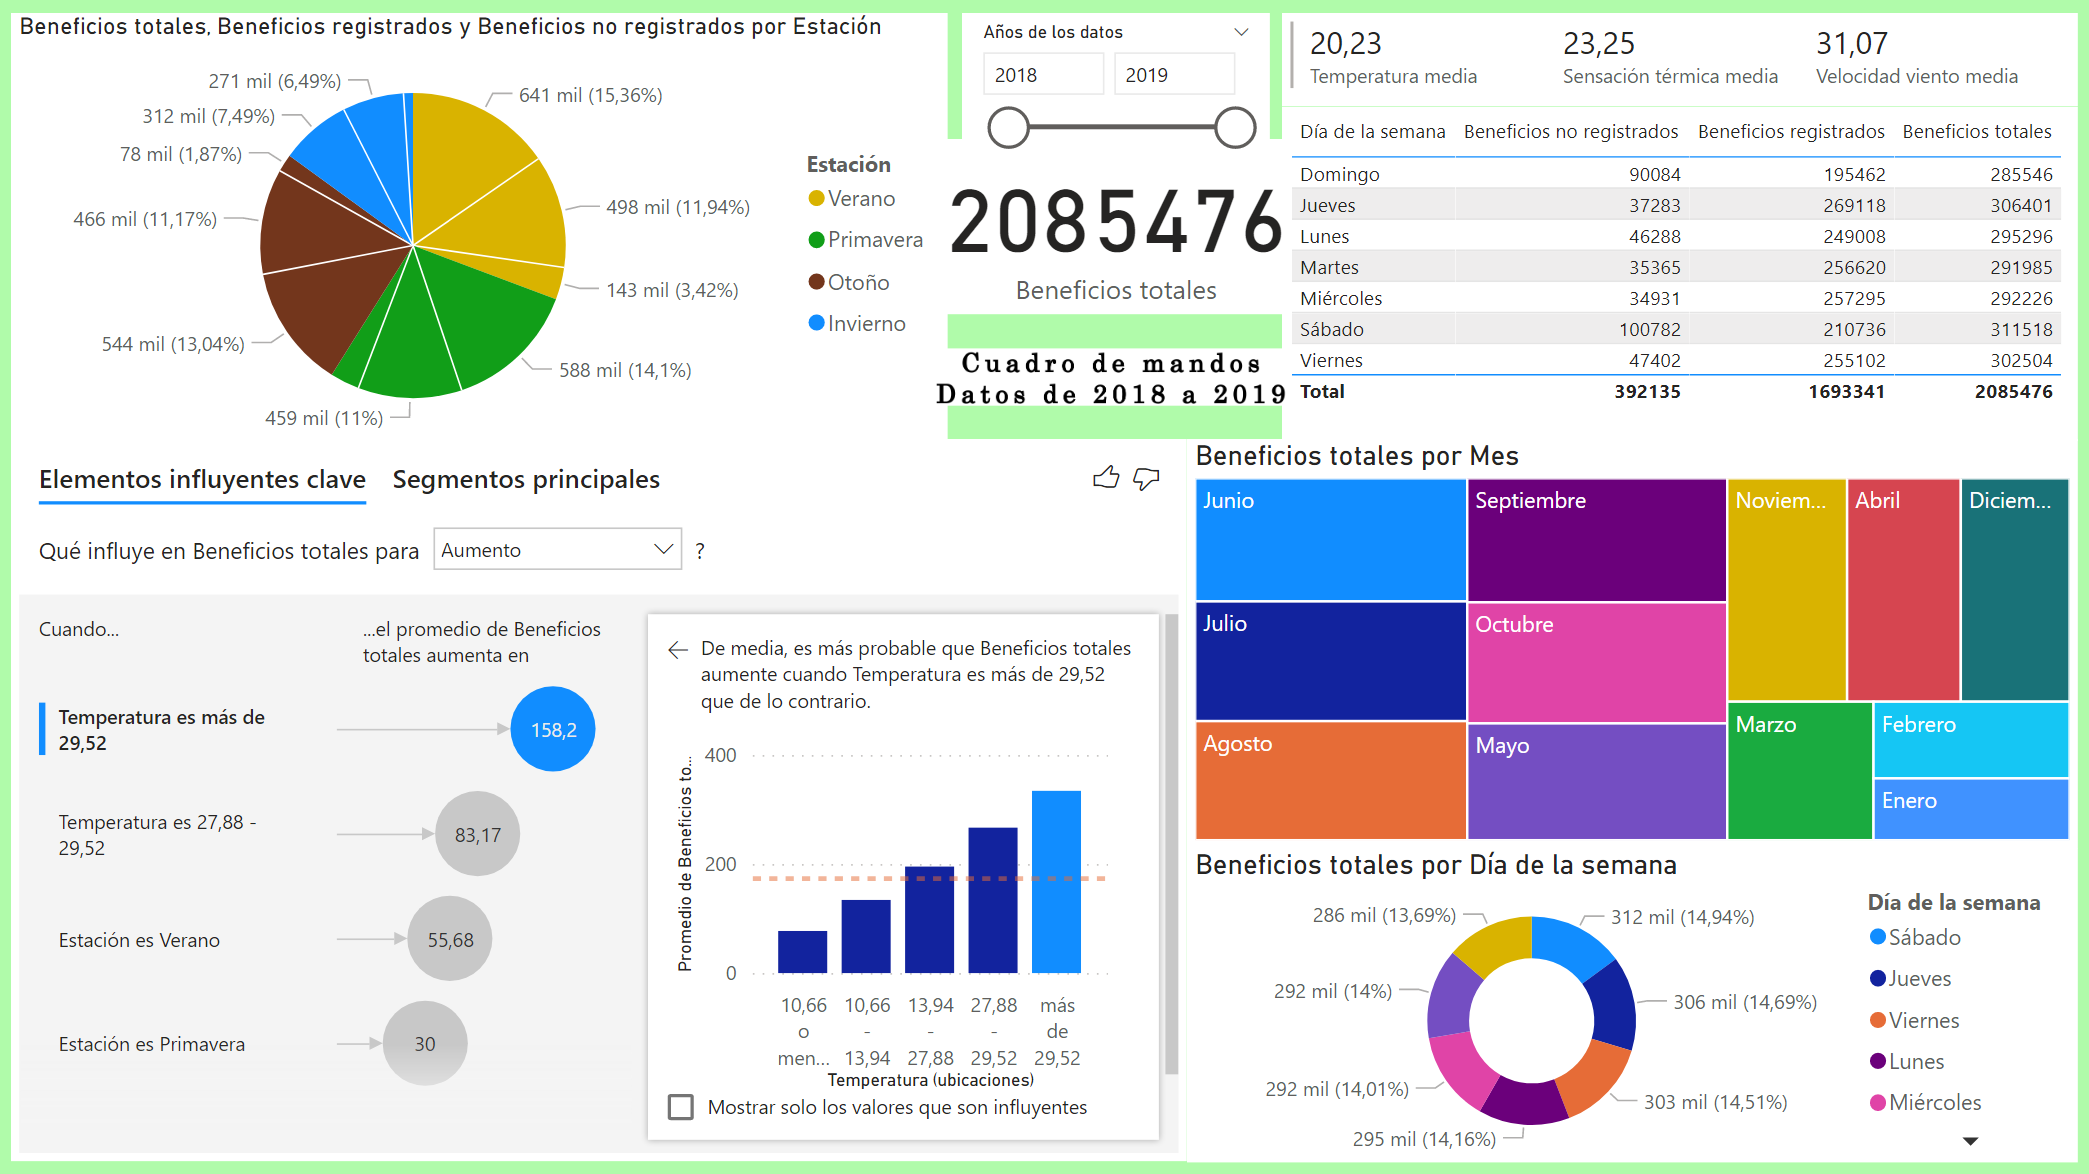

Layout of this report page (visuals, bound fields, positions):
{"tool":"powerbi","page":{"name":"Página 1","canvas":[1280,720],"ordinal":0},"visuals":[{"type":"pieChart","fields":{"Category":["rentadebicis_texto.Estación"],"Y":["Sum(rentadebicis_texto.Rentas totales)","Sum(rentadebicis_texto.Rentas registrados)","Sum(rentadebicis_texto.Rentas no registrados)"]},"box":[9.8,9.2,571.8,268.1],"z":0},{"type":"card","fields":{"Values":["Sum(rentadebicis_texto.Rentas totales)"]},"box":[575.5,86.1,218.9,107],"z":1000},{"type":"multiRowCard","fields":{"Values":["Avg(rentadebicis_texto.Temperatura)","Avg(rentadebicis_texto.Sensación térmica)","Avg(rentadebicis_texto.Velocidad viento)"]},"box":[785.8,9.2,485.7,57.2],"z":2000},{"type":"tableEx","fields":{"Values":["rentadebicis_texto.Día de la semana","Sum(rentadebicis_texto.Rentas no registrados)","Sum(rentadebicis_texto.Rentas registrados)","Sum(rentadebicis_texto.Rentas totales)"]},"box":[785.8,66.4,485.7,204.1],"z":3000},{"type":"treemap","fields":{"Values":["Sum(rentadebicis_texto.Rentas totales)"],"Group":["rentadebicis_texto.Mes"]},"box":[728,269.3,543.5,249.6],"z":4000},{"type":"keyDriversVisual","fields":{"Target":["rentadebicis_texto.Rentas totales"],"ExplainBy":["Sum(rentadebicis_texto.Temperatura)","rentadebicis_texto.Estación"]},"box":[9.8,269.3,718.2,441.5],"z":5000},{"type":"slicer","fields":{"Values":["rentadebicis_texto.Año"]},"box":[590.5,9.2,188.1,106.9],"z":6000},{"type":"image","box":[567.5,193.1,226.9,77.5],"z":7000},{"type":"donutChart","fields":{"Category":["rentadebicis_texto.Día de la semana"],"Y":["Sum(rentadebicis_texto.Rentas totales)"]},"box":[728,518.9,543.5,191.8],"z":8000}]}

Visuals, with their boxes in screenshot pixels (x1, y1, x2, y2), scaled from the page's 1280x720 canvas onto the 2089x1174 screenshot:
pieChart - rentadebicis_texto.Estación x Sum(rentadebicis_texto.Rentas totales): {"left": 16, "top": 15, "right": 949, "bottom": 452}
card - Sum(rentadebicis_texto.Rentas totales): {"left": 939, "top": 140, "right": 1296, "bottom": 315}
multiRowCard - Avg(rentadebicis_texto.Temperatura) x Avg(rentadebicis_texto.Sensación térmica): {"left": 1282, "top": 15, "right": 2075, "bottom": 108}
tableEx - rentadebicis_texto.Día de la semana x Sum(rentadebicis_texto.Rentas no registrados): {"left": 1282, "top": 108, "right": 2075, "bottom": 441}
treemap - Sum(rentadebicis_texto.Rentas totales) x rentadebicis_texto.Mes: {"left": 1188, "top": 439, "right": 2075, "bottom": 846}
keyDriversVisual - rentadebicis_texto.Rentas totales x Sum(rentadebicis_texto.Temperatura): {"left": 16, "top": 439, "right": 1188, "bottom": 1159}
slicer - rentadebicis_texto.Año: {"left": 964, "top": 15, "right": 1271, "bottom": 189}
image: {"left": 926, "top": 315, "right": 1296, "bottom": 441}
donutChart - rentadebicis_texto.Día de la semana x Sum(rentadebicis_texto.Rentas totales): {"left": 1188, "top": 846, "right": 2075, "bottom": 1159}
